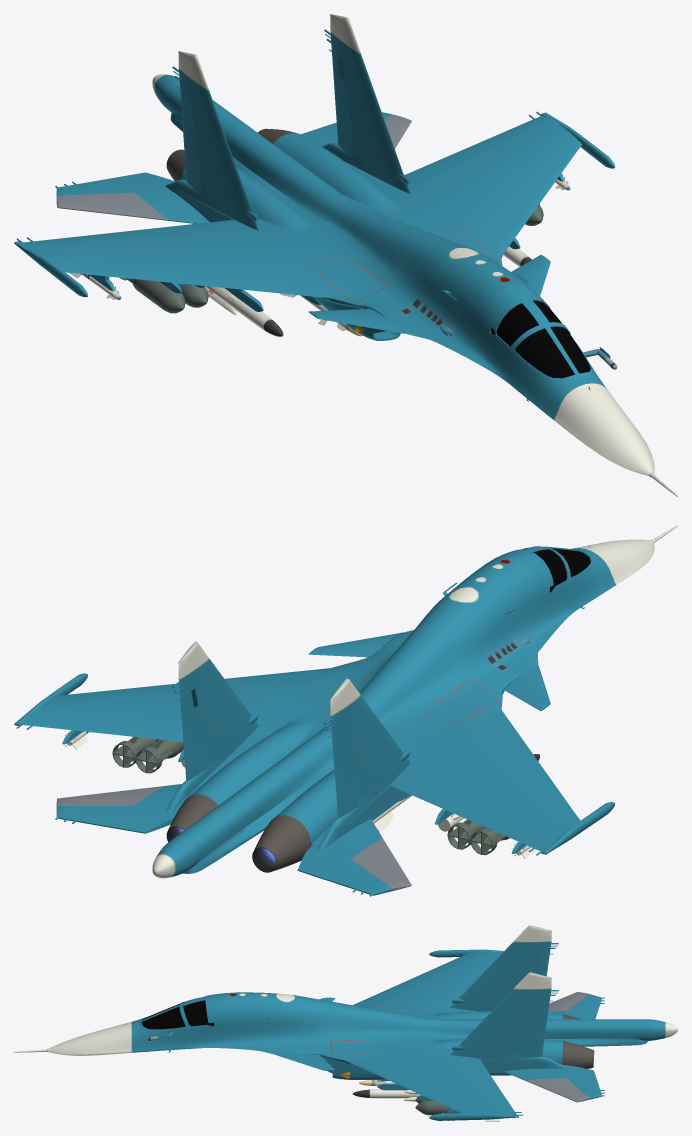
The picture shows the model from 3 angles, top to bottom: view 1: azimuth 30°, elevation 25°; view 2: azimuth 150°, elevation 25°; view 3: azimuth 270°, elevation 25°; orthographic projection. The views are drawn at different scales.
Parts seen in each view (by area): view 1: Fuselage, FinRight, FinLeft, ElevatorRight, Canopy, Arc, Slat1Right, Slat1Left, RudderLeft, RudderRight, FlapRight, FlapLeft (+7 smaller); view 2: Fuselage, FinLeft, FinRight, ElevatorRight, ElevatorLeft, NozzleRight, FlapRight, RudderRight, RudderLeft, Arc, FlapLeft, CanardRight (+12 smaller); view 3: Fuselage, FinLeft, FinRight, ElevatorLeft, Canopy, RudderLeft, ElevatorRight, Arc, NozzleLeft, FlapLeft, Slat1Left, Kh-31L (+7 smaller).
Part boxes in pixels (box(x1,y1,x2,y2)): Fuselage: box(26, 74, 654, 475); FinRight: box(172, 51, 258, 230); FinLeft: box(324, 14, 410, 193); ElevatorRight: box(55, 172, 209, 223); Canopy: box(491, 300, 590, 378); Arc: box(488, 285, 593, 381); Slat1Right: box(172, 274, 322, 298); Slat1Left: box(488, 186, 548, 252); RudderLeft: box(329, 49, 352, 156); RudderRight: box(177, 86, 200, 193); FlapRight: box(103, 220, 250, 239); FlapLeft: box(405, 141, 495, 190); Fuselage: box(26, 539, 654, 878); FinLeft: box(172, 641, 258, 796); FinRight: box(324, 678, 410, 835); ElevatorRight: box(297, 819, 411, 896); ElevatorLeft: box(55, 784, 186, 833); NozzleRight: box(252, 815, 311, 872); FlapRight: box(390, 767, 494, 826); RudderRight: box(329, 726, 357, 818); RudderLeft: box(177, 689, 206, 781); Arc: box(497, 546, 593, 593); FlapLeft: box(102, 721, 183, 741); CanardRight: box(504, 665, 550, 711); Fuselage: box(47, 952, 677, 1114); FinLeft: box(450, 972, 558, 1067); FinRight: box(450, 925, 558, 1012); ElevatorLeft: box(504, 1058, 604, 1102); Canopy: box(141, 996, 214, 1029); RudderLeft: box(520, 1000, 552, 1057); ElevatorRight: box(548, 992, 604, 1019); Arc: box(139, 993, 224, 1031); NozzleLeft: box(562, 1041, 594, 1068); FlapLeft: box(455, 1056, 502, 1093); Slat1Left: box(350, 1059, 423, 1092); Kh-31L: box(353, 1089, 420, 1101).
Bounding box in the file's own units: 15.03 × 5.41 × 25.55.
3 materials, 2 textured.
